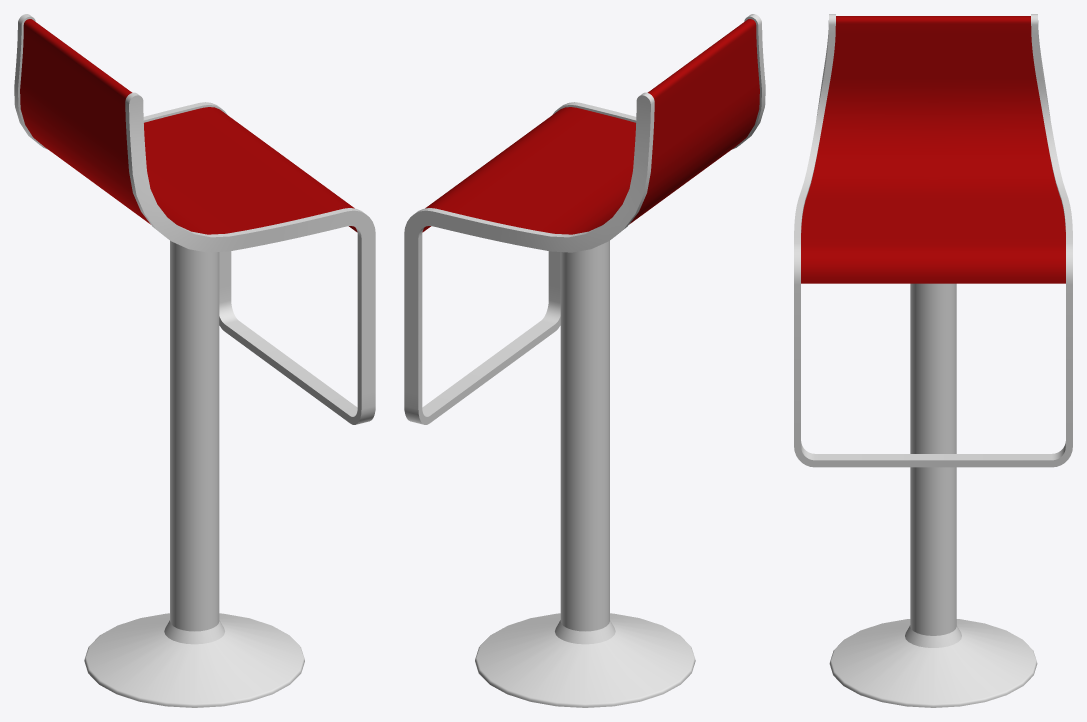
File: bar_chair.glb
The picture shows the model from 3 angles, left to right: view 1: azimuth 30°, elevation 25°; view 2: azimuth 150°, elevation 25°; view 3: azimuth 270°, elevation 25°; orthographic projection. The views are drawn at different scales.
Visible parts, largest first — view 1: Line59_1, Line60_4, Line58_5, Line13_2, Line61_3; view 2: Line59_1, Line60_4, Line61_3, Line13_2, Line58_5; view 3: Line60_4, Line59_1, Line13_2, Line58_5, Line61_3.
Part boxes in pixels (x1,y1,x2,y2): Line59_1: [84, 240, 304, 707]; Line60_4: [20, 19, 357, 234]; Line58_5: [125, 92, 375, 394]; Line13_2: [219, 285, 375, 424]; Line61_3: [14, 14, 231, 287]; Line59_1: [475, 240, 695, 707]; Line60_4: [422, 19, 759, 234]; Line61_3: [404, 92, 654, 394]; Line13_2: [404, 285, 560, 424]; Line58_5: [548, 14, 765, 287]; Line60_4: [801, 16, 1065, 283]; Line59_1: [829, 283, 1037, 707]; Line13_2: [794, 432, 1072, 467]; Line58_5: [794, 14, 835, 432]; Line61_3: [1031, 14, 1072, 432].
Bounding box in the file's own units: 32 × 85 × 36.
